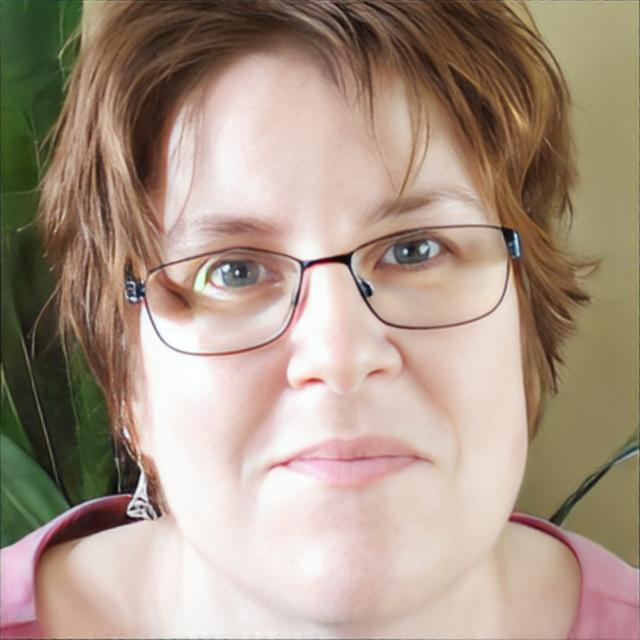disgust: (133, 35, 530, 629)
